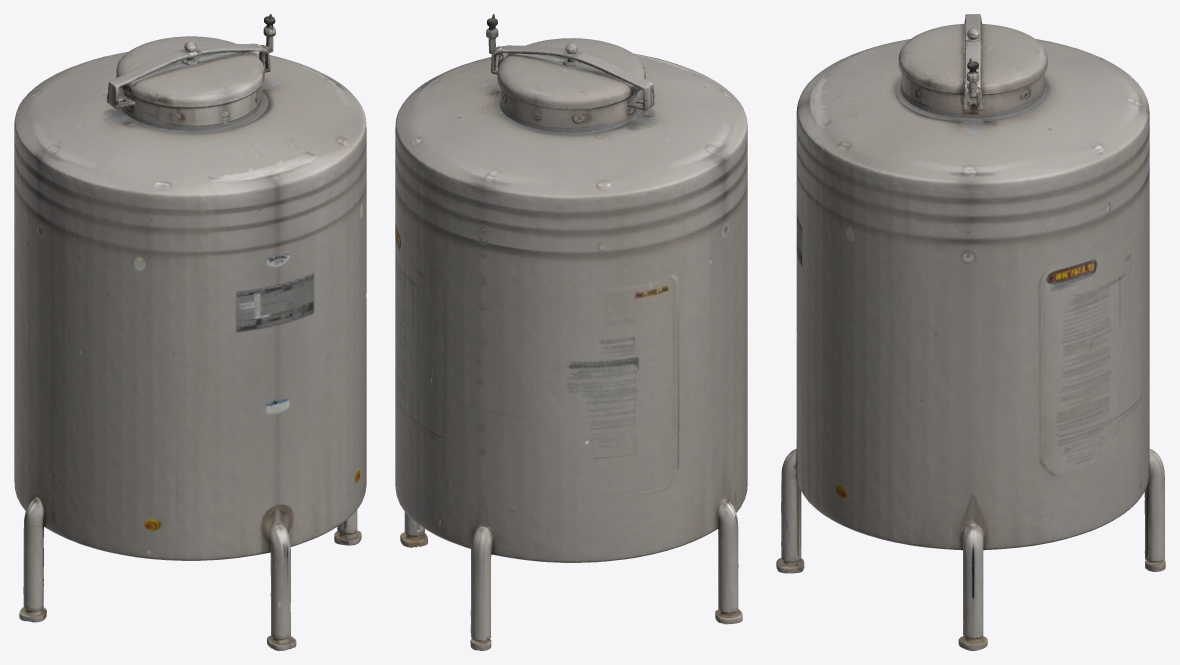
The model's file is tank.glb.
The picture shows the model from 3 angles, left to right: view 1: azimuth 30°, elevation 25°; view 2: azimuth 150°, elevation 25°; view 3: azimuth 270°, elevation 25°; orthographic projection.
Visible parts, largest first — view 1: Object_4, Object_5; view 2: Object_4, Object_5; view 3: Object_4, Object_5.
Boxes of the visible parts, bbox=[...] form: Object_4: bbox=[14, 24, 366, 650]; Object_5: bbox=[14, 14, 366, 622]; Object_4: bbox=[395, 25, 747, 650]; Object_5: bbox=[395, 14, 747, 650]; Object_4: bbox=[776, 15, 1164, 650]; Object_5: bbox=[798, 14, 1165, 647].
Bounding box in the file's own units: 1.25 × 1.92 × 1.24.
1 material, 1 textured.
